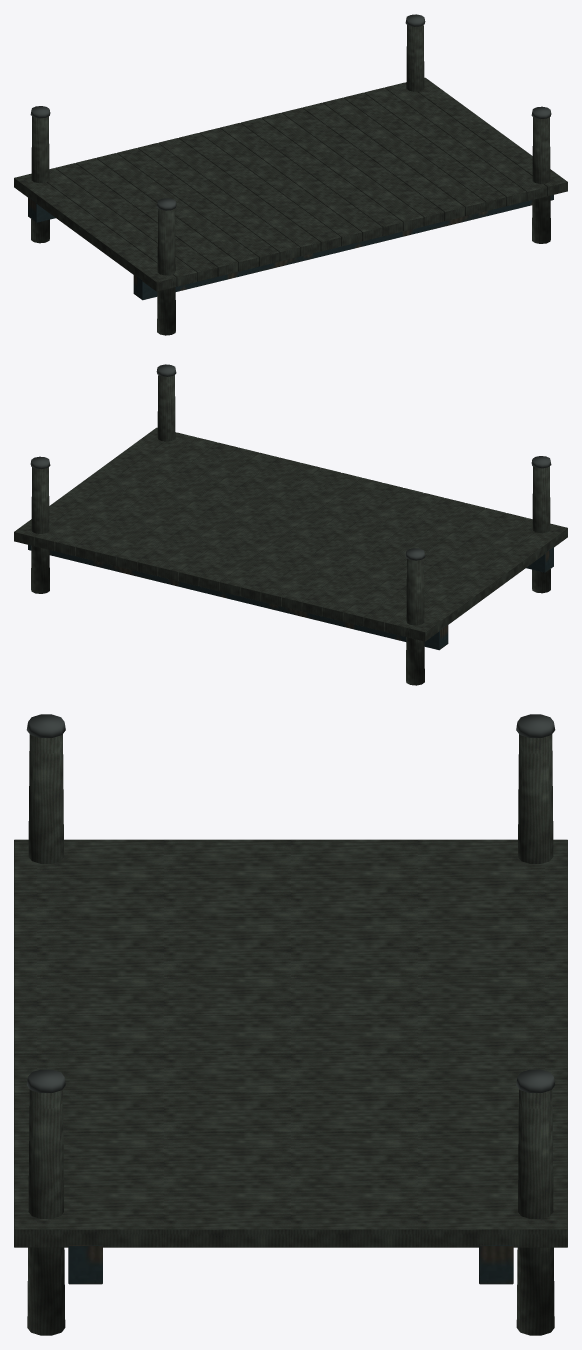
Rendered from timber-pier4m.glb.
3 views of the same model, one above another, from view 1: azimuth 30°, elevation 25°; view 2: azimuth 150°, elevation 25°; view 3: azimuth 270°, elevation 25° (orthographic). The views are drawn at different scales.
Visible parts, largest first — view 1: Authored Salt worn timber grain, Authored Faded harbour paint, Authored iron; view 2: Authored Salt worn timber grain, Authored Faded harbour paint, Authored iron; view 3: Authored Salt worn timber grain, Authored iron, Authored Faded harbour paint.
Boxes of the visible parts, box(x1,y1,x2,y2) form: Authored Salt worn timber grain: box(14, 25, 567, 335); Authored Faded harbour paint: box(28, 195, 553, 300); Authored iron: box(30, 14, 551, 210); Authored Salt worn timber grain: box(14, 375, 567, 685); Authored Faded harbour paint: box(28, 545, 553, 650); Authored iron: box(30, 364, 551, 560); Authored Salt worn timber grain: box(14, 734, 567, 1335); Authored iron: box(26, 714, 555, 1092); Authored Faded harbour paint: box(68, 1245, 513, 1284).
Size of the model in its own units: 4 by 1.2 by 2.4.
3 materials, 2 textured.
